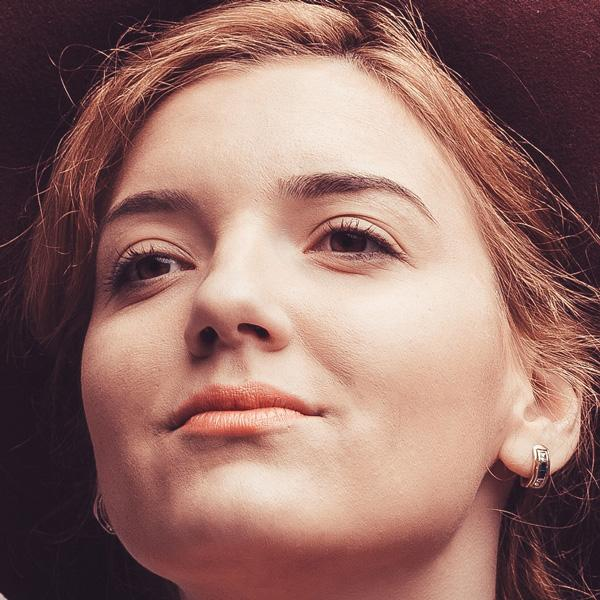Eyes: (96, 229, 208, 309), (284, 207, 410, 278)
